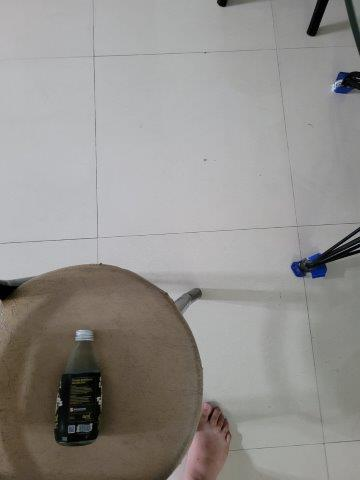botolkaca: (53, 329, 101, 445)
